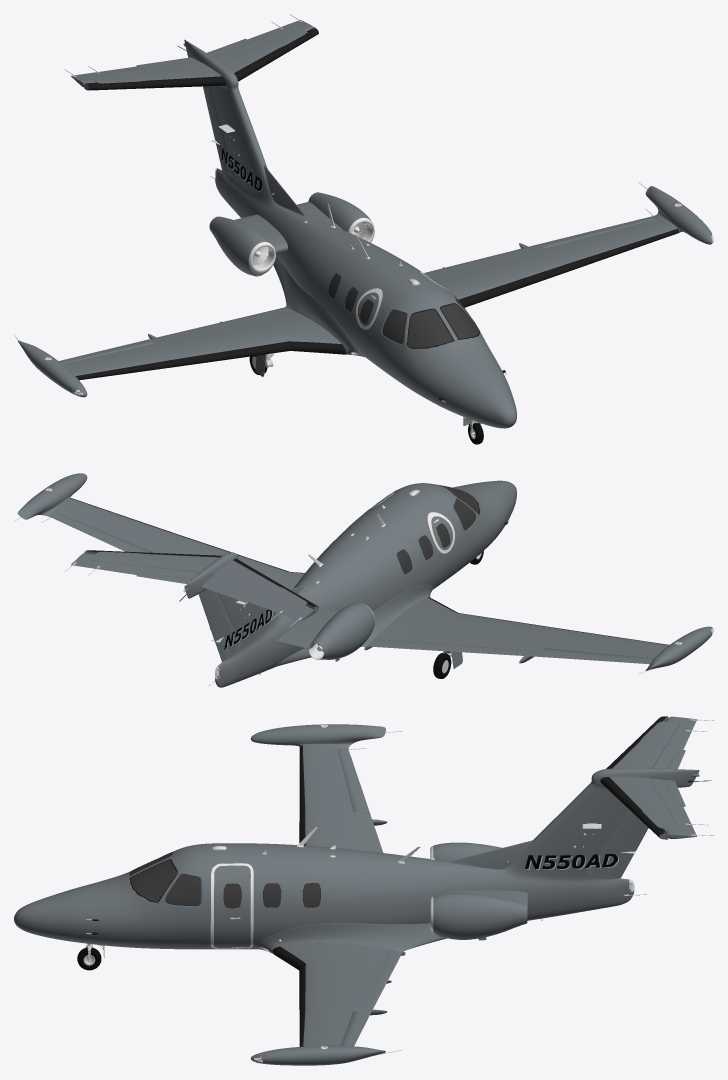
3 renders of one model, top to bottom at view 1: azimuth 30°, elevation 25°; view 2: azimuth 150°, elevation 25°; view 3: azimuth 270°, elevation 25°, orthographic. The views are drawn at different scales.
Visible parts, largest first — view 1: tire_lndg_rear_l_in.026, tire_lndg_rear_l_in.031, tire_lndg_rear_l_in.033, tire_lndg_rear_l_in.032, tire_lndg_rear_l_in.044; view 2: tire_lndg_rear_l_in.026, tire_lndg_rear_l_in.033, tire_lndg_rear_l_in.031, tire_lndg_rear_l_in.044, g865.001, tire_lndg_rear_l_in.032, tire_lndg_rear_l_in.041; view 3: tire_lndg_rear_l_in.026, tire_lndg_rear_l_in.033, tire_lndg_rear_l_in.031, g865, tire_lndg_rear_l_in.044, tire_lndg_rear_l_in.032.
Part boxes in pixels (x1,y1,x2,y2): tire_lndg_rear_l_in.026: (18,19,712,428); tire_lndg_rear_l_in.031: (72,27,711,400); tire_lndg_rear_l_in.033: (328,273,479,347); tire_lndg_rear_l_in.032: (45,170,681,402); tire_lndg_rear_l_in.044: (14,14,653,439); tire_lndg_rear_l_in.026: (17,473,712,687); tire_lndg_rear_l_in.033: (397,486,479,573); tire_lndg_rear_l_in.031: (70,498,712,678); tire_lndg_rear_l_in.044: (14,489,651,686); g865.001: (224,609,272,650); tire_lndg_rear_l_in.032: (45,488,712,679); tire_lndg_rear_l_in.041: (433,551,483,678); tire_lndg_rear_l_in.026: (14,716,699,1065); tire_lndg_rear_l_in.033: (130,851,320,907); tire_lndg_rear_l_in.031: (91,716,711,1063); g865: (525,854,618,869); tire_lndg_rear_l_in.044: (83,719,713,1054); tire_lndg_rear_l_in.032: (86,724,633,1059).
Size of the model in its own units: 1.16 by 0.3297 by 1.04.
Materials: 15 (2 with a texture image).
